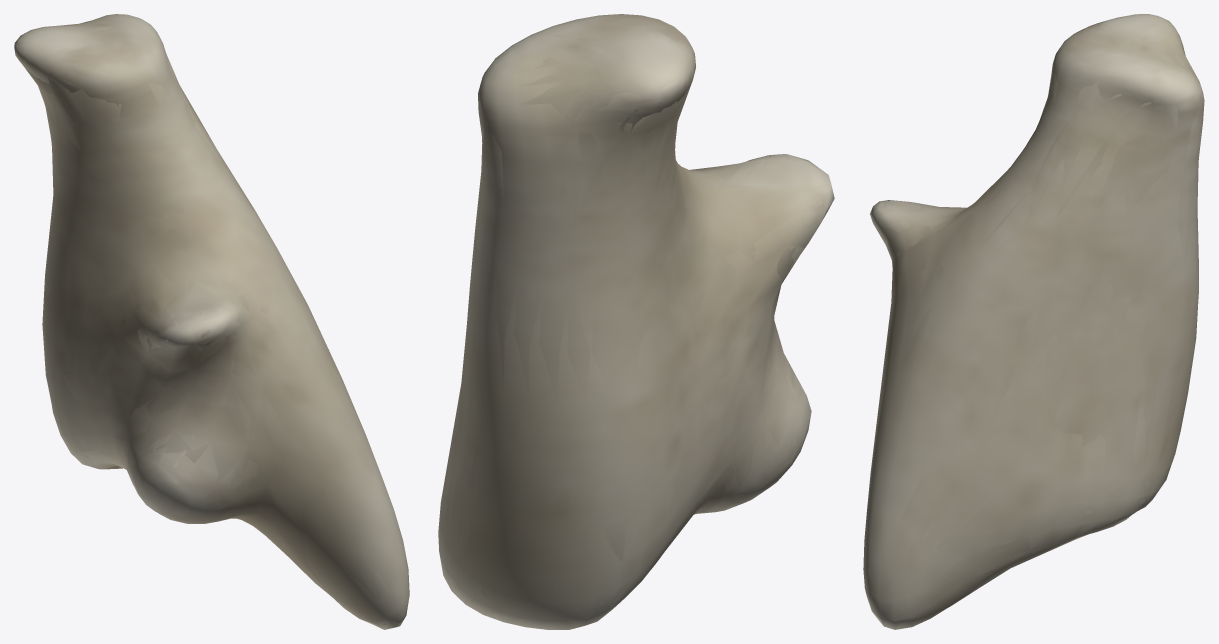
The model's file is R talus.fbx.
3 views of the same model, side by side, from view 1: azimuth 30°, elevation 25°; view 2: azimuth 150°, elevation 25°; view 3: azimuth 270°, elevation 25° (orthographic). The views are drawn at different scales.
Visible parts, largest first — view 1: R talus, R talus low, R talus high; view 2: R talus, R talus low, R talus high; view 3: R talus, R talus low, R talus high.
Boxes of the visible parts, <box> form: R talus: <box>14,14,409,629</box>; R talus low: <box>14,14,409,627</box>; R talus high: <box>18,20,405,625</box>; R talus: <box>438,14,833,629</box>; R talus low: <box>438,35,834,625</box>; R talus high: <box>439,16,827,625</box>; R talus: <box>863,14,1204,629</box>; R talus low: <box>866,25,1203,629</box>; R talus high: <box>868,14,1198,623</box>.
Size of the model in its own units: 0.6996 by 1.45 by 0.8737.
Materials: 1 (1 with a texture image).
